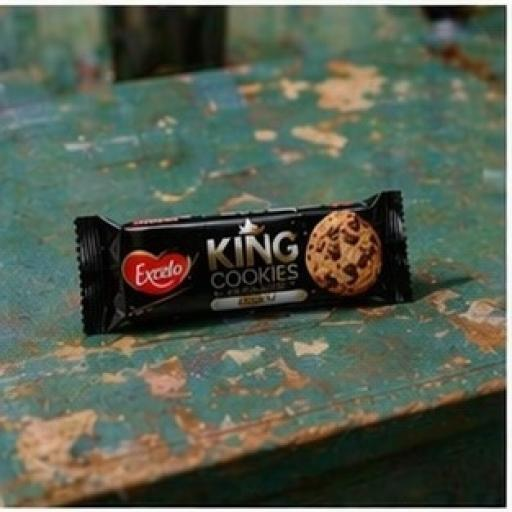king-cooking: (49, 148, 482, 376)
